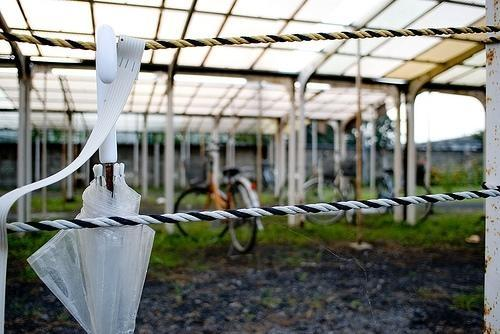bicycle: (176, 128, 262, 252), (304, 150, 348, 227)
